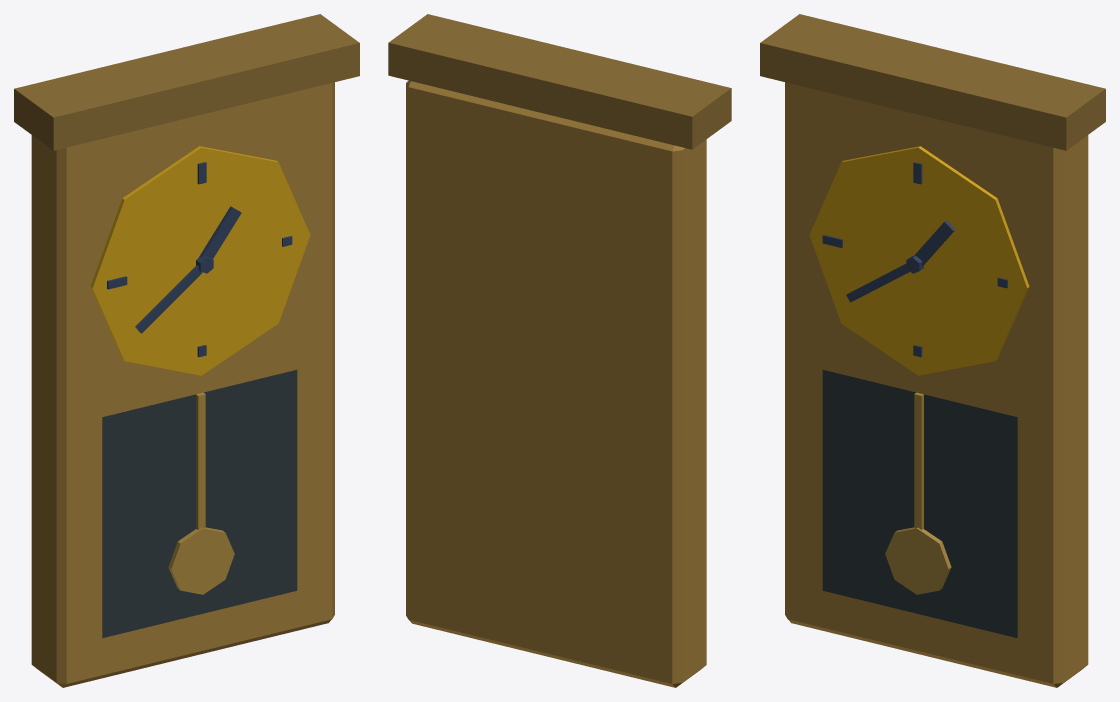
File: wall-clock-42.glb
3 renders of one model, left to right at view 1: azimuth 30°, elevation 25°; view 2: azimuth 150°, elevation 25°; view 3: azimuth 330°, elevation 25°, orthographic.
Parts seen in each view (by area): view 1: wall_clock_42; view 2: wall_clock_42; view 3: wall_clock_42.
Boxes of the visible parts, <box> form: wall_clock_42: <box>14,14,359,687</box>; wall_clock_42: <box>388,14,731,687</box>; wall_clock_42: <box>760,14,1105,687</box>.
Size of the model in its own units: 0.4823 by 0.8778 by 0.1088.
